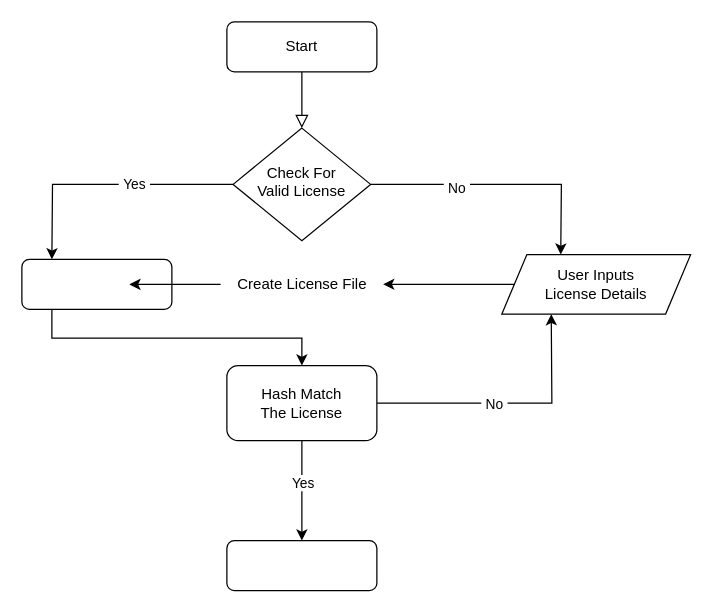
The diagram is 713 pixels wide and 613 high, and some of its shapes have lost their labels. Each missing label, with the centre of its shape:
Hash License Details: [96,283]
Program Starts Up: [301,565]
